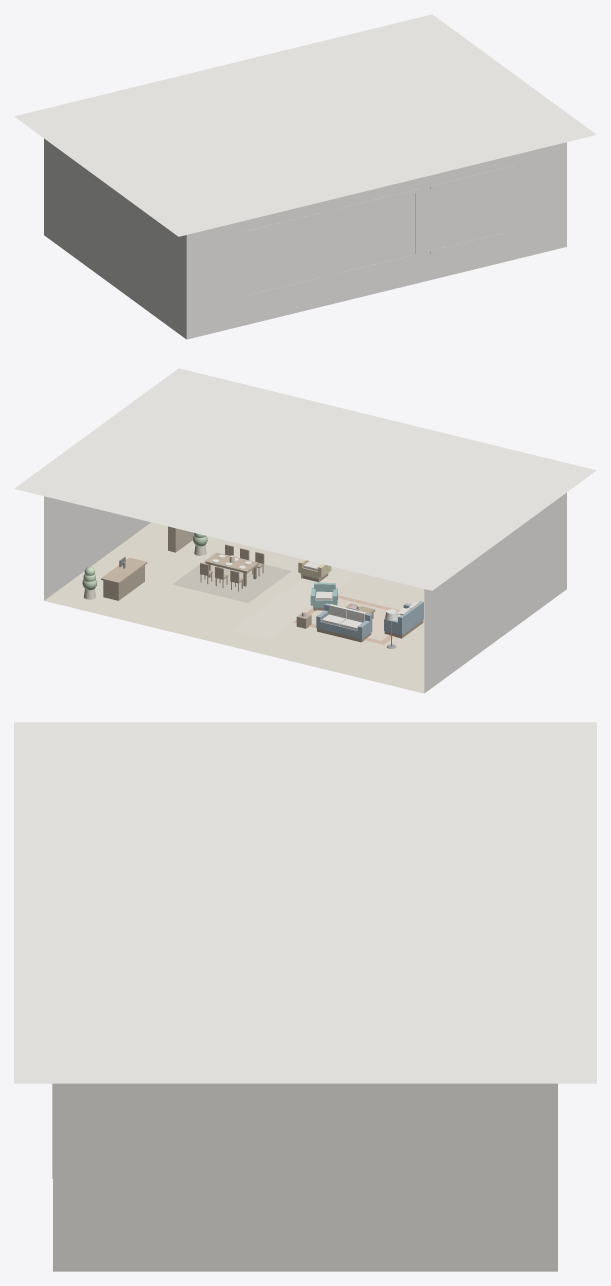
3 views of the same model, one above another, from view 1: azimuth 30°, elevation 25°; view 2: azimuth 150°, elevation 25°; view 3: azimuth 270°, elevation 25° (orthographic). The views are drawn at different scales.
Visible parts, largest first — view 1: object 6, object 3, object 4; view 2: object 6, object 1, object 4, object 5, object 2, object 112, sales_desk (×2), object 55, dining_table, shelf_unit; view 3: object 6, object 5.
Boxes of the visible parts, x1,y1,x2,y2 form: object 6: (14,14,596,236); object 3: (186,142,566,339); object 4: (44,138,186,339); object 6: (14,368,596,590); object 1: (44,522,424,693); object 4: (424,492,566,693); object 5: (44,496,150,600); object 2: (232,566,359,639); object 112: (172,552,291,602); sales_desk (×2): (101,557,147,600); object 55: (311,598,388,640); dining_table: (205,552,258,573); shelf_unit: (168,526,193,552); object 6: (14,722,596,1083); object 5: (53,1083,557,1271).
Size of the model in its own units: 22 by 5.8 by 15.
